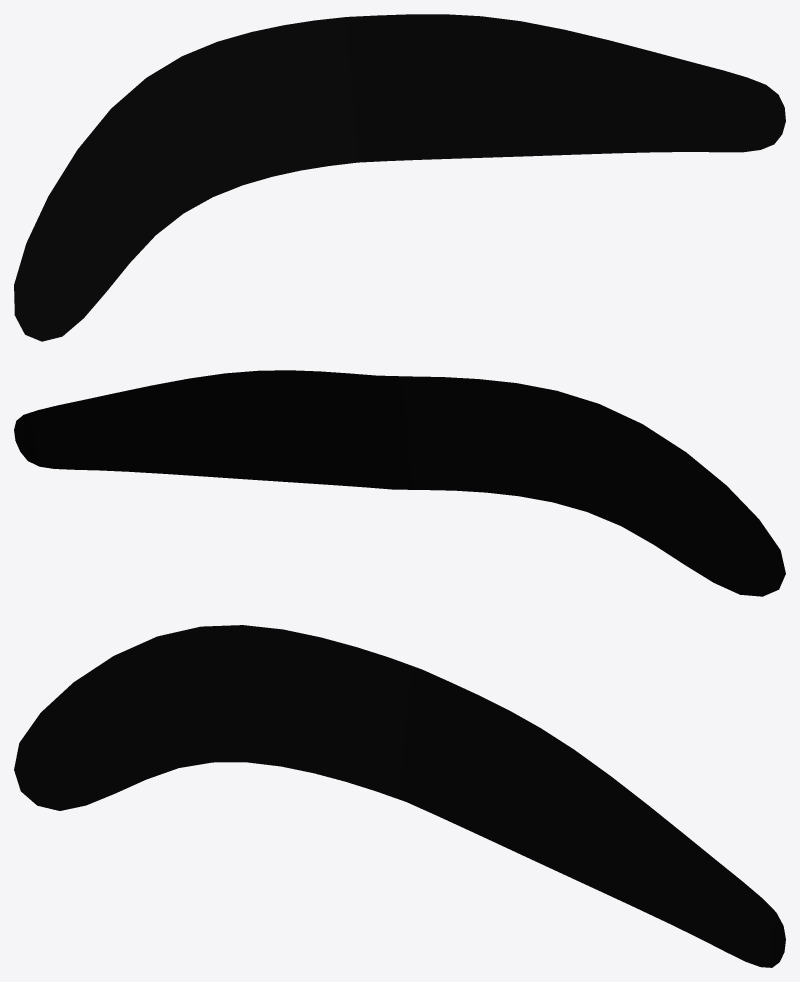
File: 23-Confused-Tired-Face-mouth.glb
3 views of the same model, one above another, from view 1: azimuth 30°, elevation 25°; view 2: azimuth 150°, elevation 25°; view 3: azimuth 330°, elevation 25° (orthographic). The views are drawn at different scales.
Parts seen in each view (by area): view 1: 23-Confused-Tired-Face-mouth; view 2: 23-Confused-Tired-Face-mouth; view 3: 23-Confused-Tired-Face-mouth.
Part boxes in pixels (bbox=[...]): 23-Confused-Tired-Face-mouth: bbox=[14, 14, 785, 341]; 23-Confused-Tired-Face-mouth: bbox=[14, 370, 785, 596]; 23-Confused-Tired-Face-mouth: bbox=[14, 625, 785, 967].
Bounding box in the file's own units: 0.2038 × 0.0555 × 0.0254.
1 material, 1 textured.
